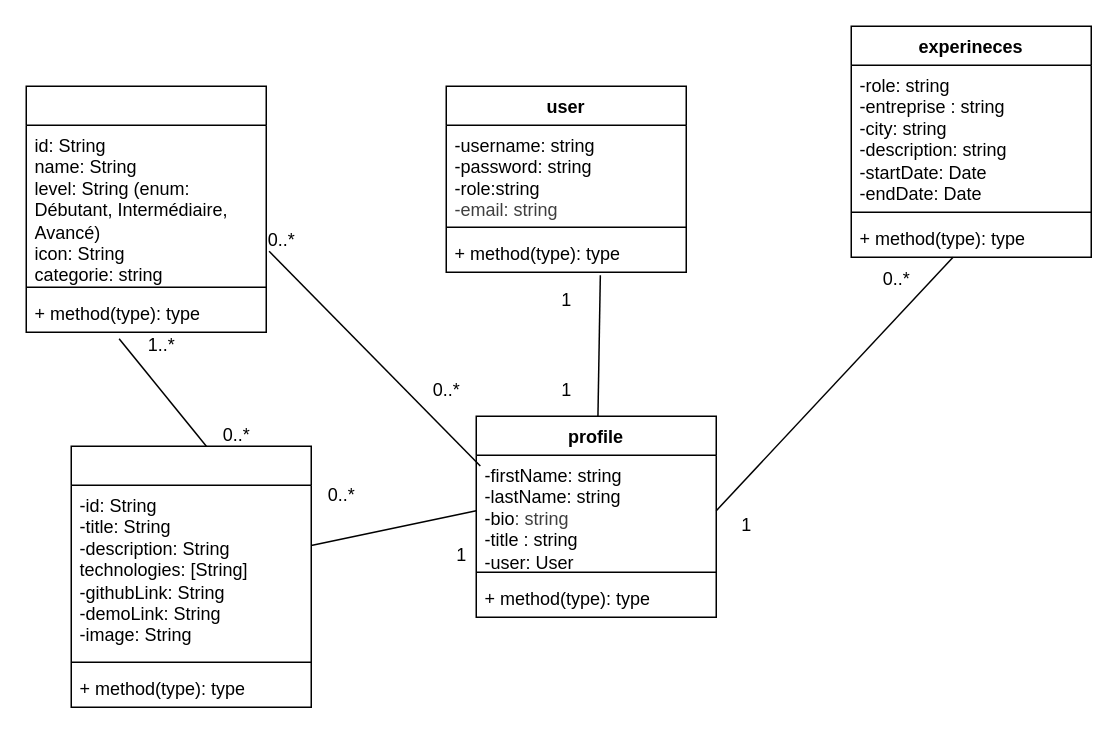
Some shapes in this 1118 by 738 pixel diagram are drawn without their labels. Each missing label, with the box of its shape:
competence: (25, 85, 266, 332)
projet: (70, 445, 311, 707)
